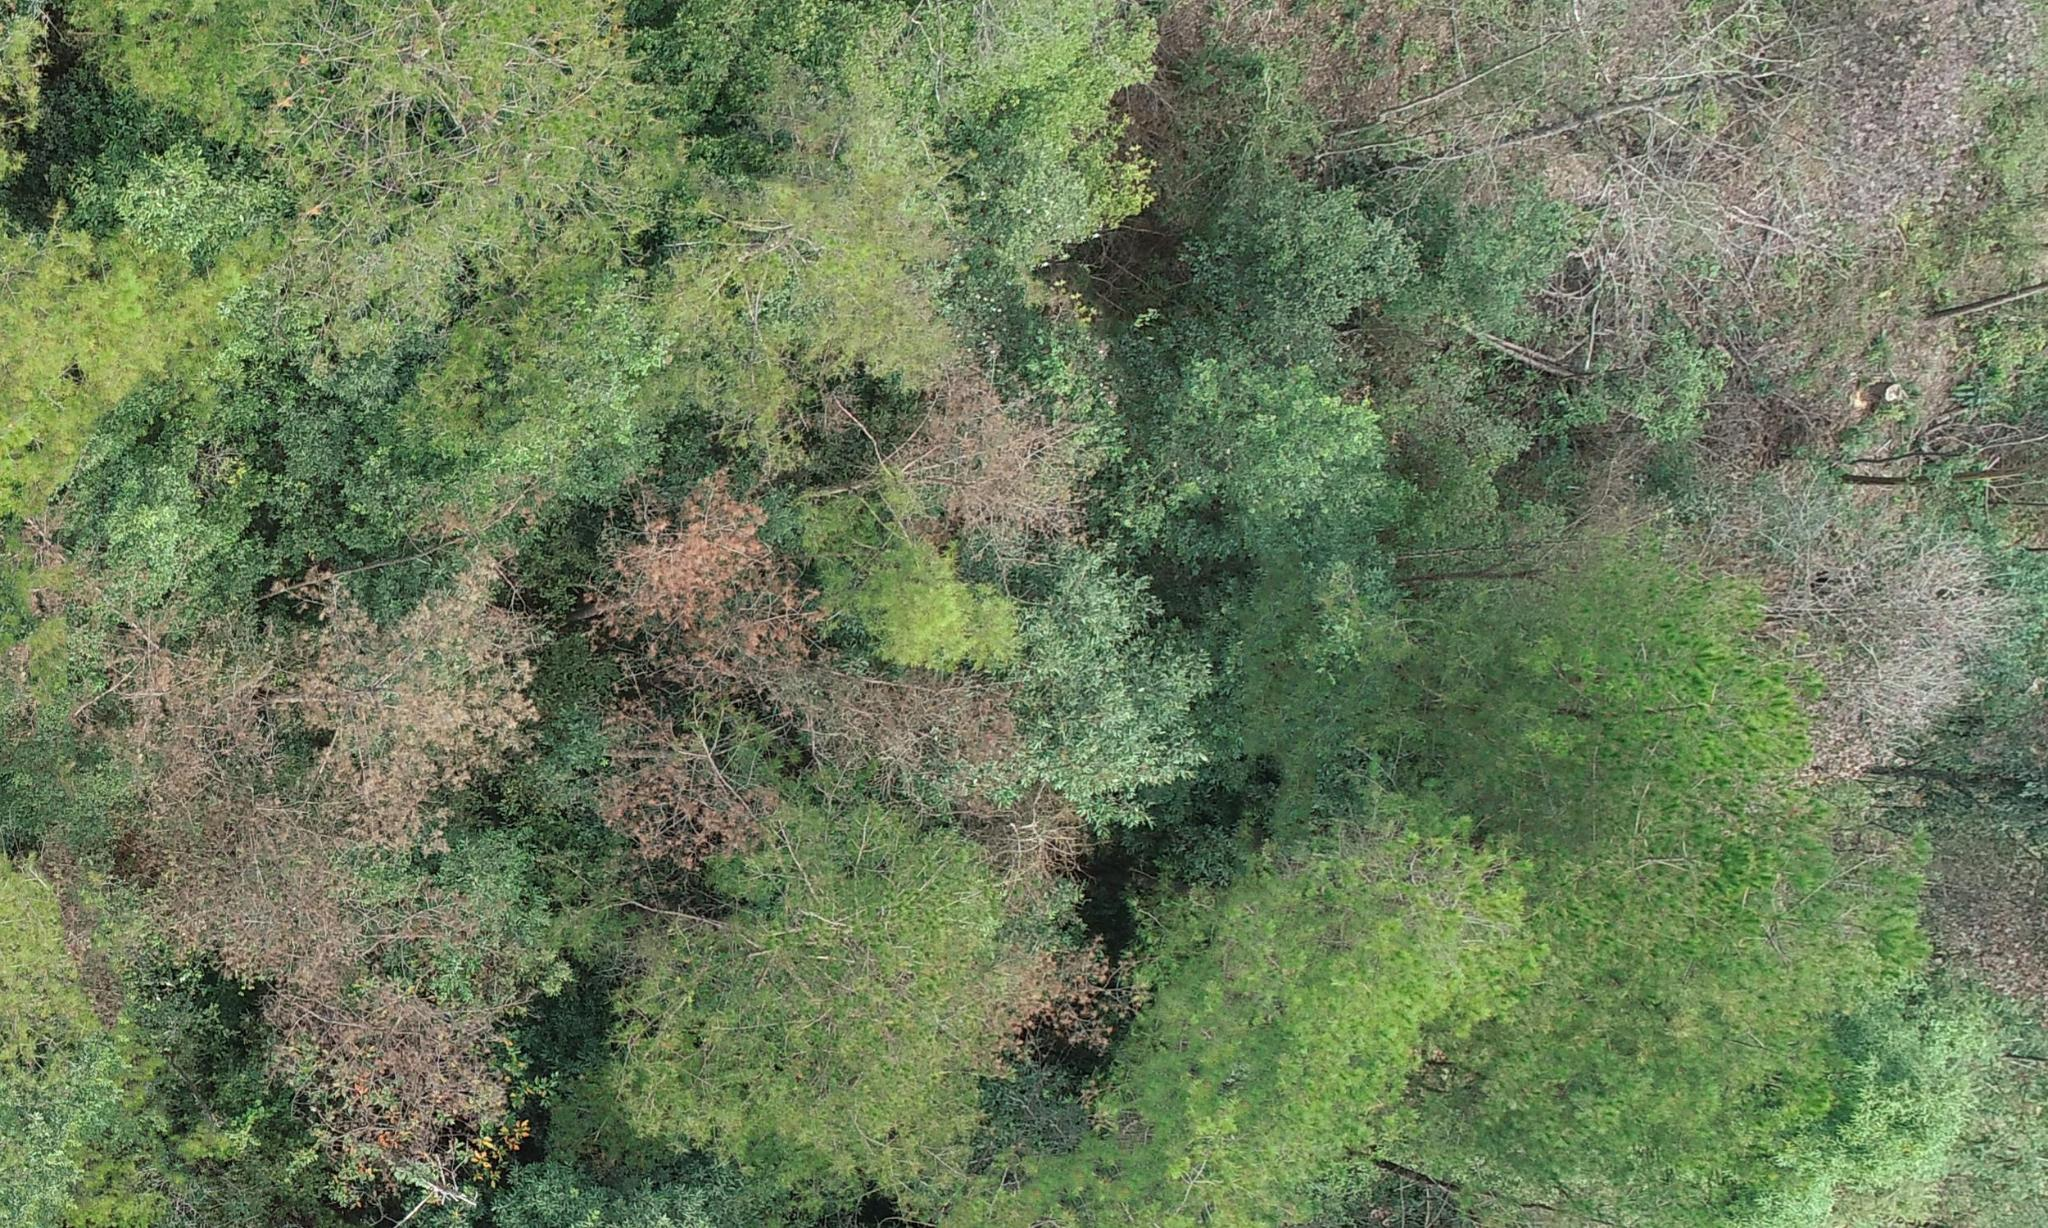heavy: (69, 545, 610, 1152), (624, 477, 862, 760), (877, 361, 1086, 579)
